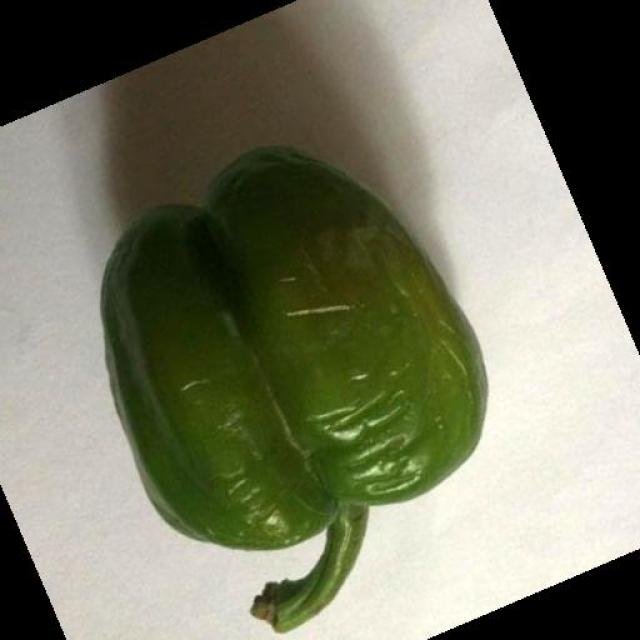Stale_Capsicum: (86, 158, 476, 608)
